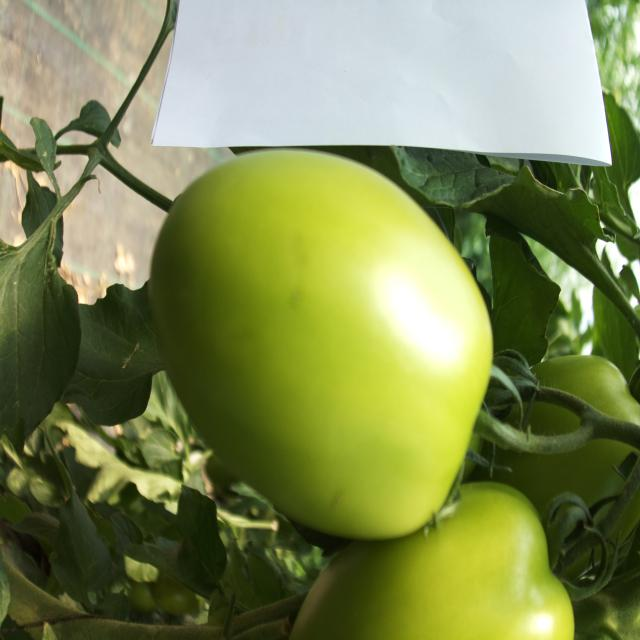yesil: (118, 143, 496, 539)
